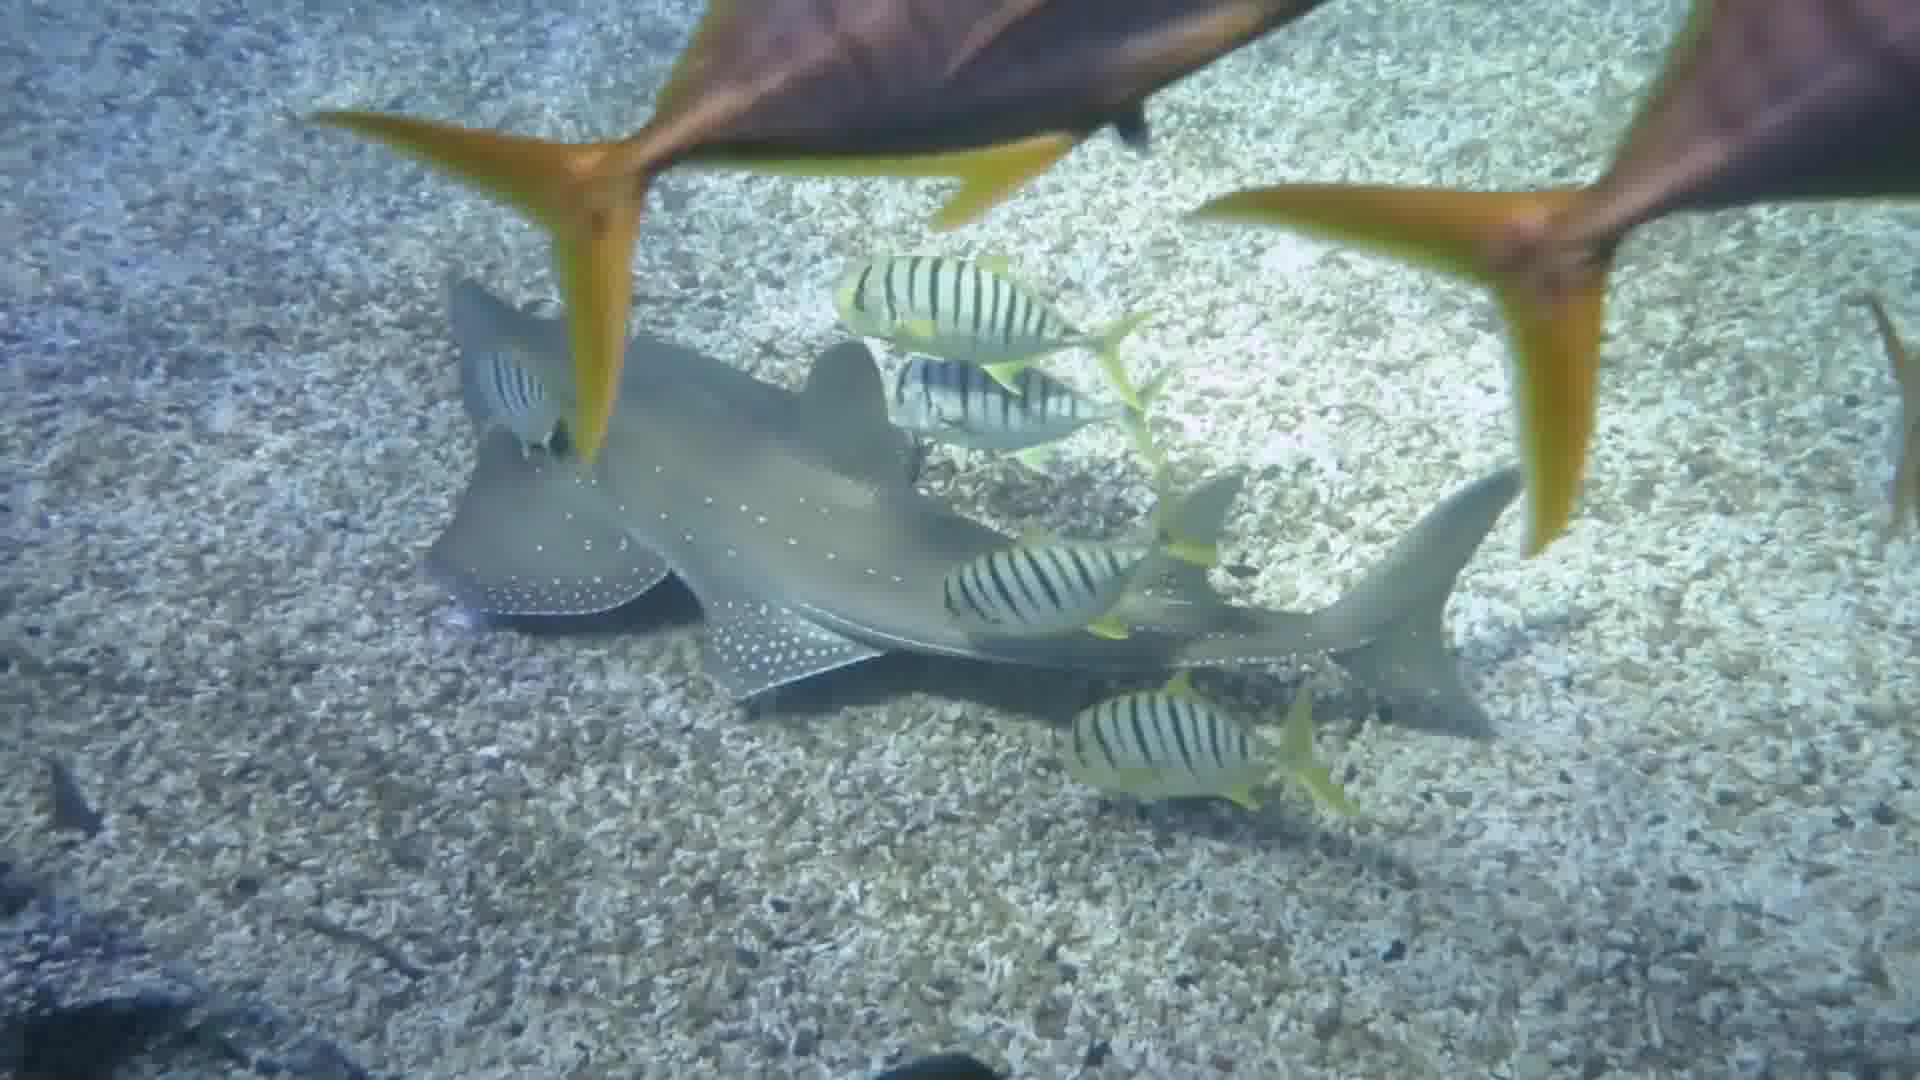Rhychobatus djiddensis: (460, 281, 1518, 773)
